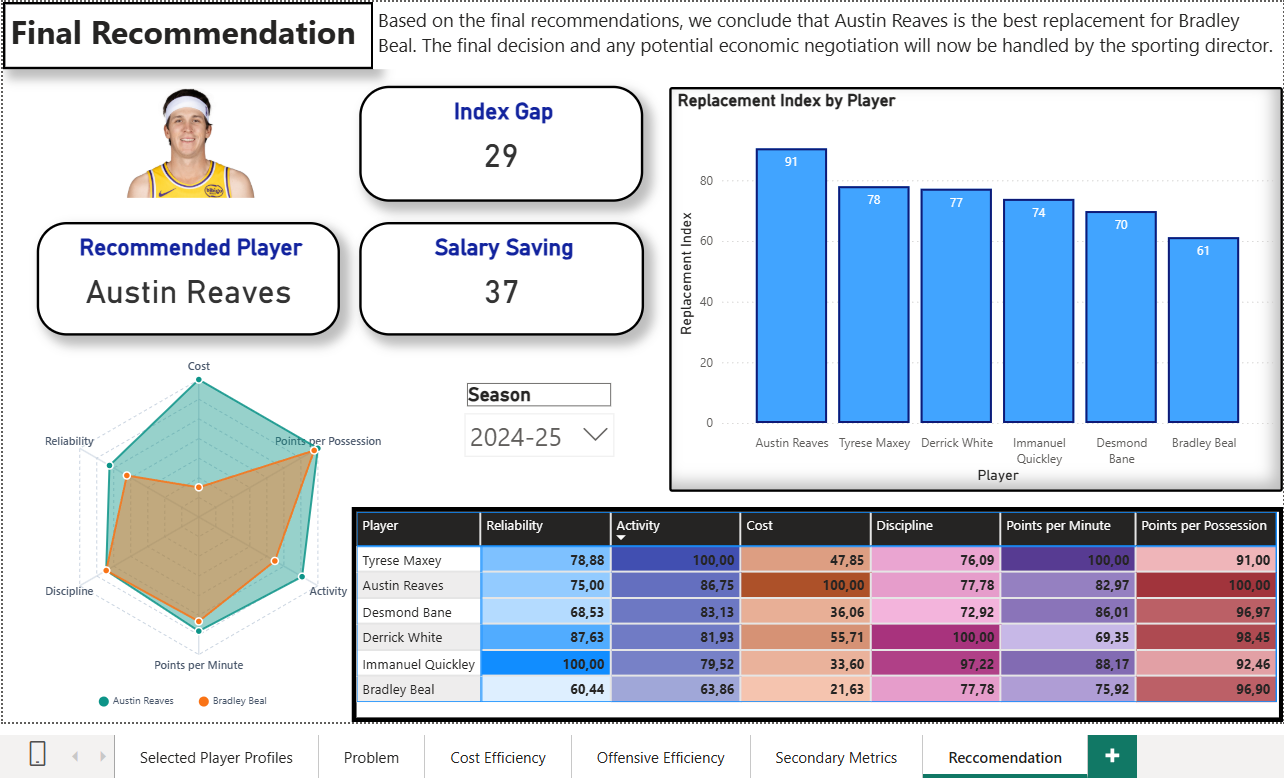

What the dashboard file says about the page in this screenshot:
{"tool":"powerbi","page":{"name":"Reccomendation","canvas":[1280,720],"ordinal":5},"visuals":[{"type":"clusteredColumnChart","title":"Replacement Index by Player","fields":{"Category":["NBA_salaries.Player"],"Y":["NBA_salaries.Indice Finale Rimpiazzo"]},"box":[666.7,85,613.3,405],"z":0},{"type":"slicer","fields":{"Values":["Seasons.Season"]},"box":[451.7,376.7,170,96.7],"z":1000},{"type":"briqlabRadarPro00AB02FA7F1A4AD68777E9B408C0B9D3","fields":{"entity":["NBA_salaries.Player"],"dimension":["Tabella.Categoria"],"value":["NBA_salaries.Valore Radar"]},"box":[0,333.3,391.7,386.7],"z":2000},{"type":"pivotTable","fields":{"Rows":["NBA_salaries.Player"],"Values":["NBA_salaries.Score Affidabilità","NBA_salaries.Score Attività","NBA_salaries.Score Costo","NBA_salaries.Score Disciplina","NBA_salaries.Score Punti per Minuto","NBA_salaries.Score Punti per Possesso"]},"box":[348.3,505,931.7,215],"z":3000},{"type":"textbox","box":[0,0,370,67.1],"z":4000},{"type":"textbox","box":[370,0,910,67.1],"z":5000},{"type":"advanceCardE03760C5AB684758B56AA29F9E6C257B","title":"Recommended Player","fields":{"mainMeasure":["Min(NBA_salaries.Player)"]},"box":[33.3,220,303.3,113.3],"z":6000},{"type":"advanceCardE03760C5AB684758B56AA29F9E6C257B","title":"Index Gap","fields":{"mainMeasure":["NBA_salaries.Index Gap"]},"box":[355.8,84.2,284.2,115.8],"z":7000},{"type":"advanceCardE03760C5AB684758B56AA29F9E6C257B","title":"Salary Saving","fields":{"mainMeasure":["NBA_salaries.Salary Saving"]},"box":[356.7,220,285,113.3],"z":8000},{"type":"image","box":[110,66.7,150,150],"z":9000}]}

Visuals, with their boxes on the page's 1280x720 design canvas (x1, y1, x2, y2). These are canvas units, not pixel positions in the 1284x778 screenshot, which may show the page scaled, cropped or inside an application window:
"Replacement Index by Player" clusteredColumnChart: region(667, 85, 1280, 490)
slicer - Seasons.Season: region(452, 377, 622, 473)
briqlabRadarPro00AB02FA7F1A4AD68777E9B408C0B9D3 - NBA_salaries.Player x Tabella.Categoria: region(0, 333, 392, 720)
pivotTable - NBA_salaries.Player x NBA_salaries.Score Affidabilità: region(348, 505, 1280, 720)
textbox: region(0, 0, 370, 67)
textbox: region(370, 0, 1280, 67)
"Recommended Player" advanceCardE03760C5AB684758B56AA29F9E6C257B: region(33, 220, 337, 333)
"Index Gap" advanceCardE03760C5AB684758B56AA29F9E6C257B: region(356, 84, 640, 200)
"Salary Saving" advanceCardE03760C5AB684758B56AA29F9E6C257B: region(357, 220, 642, 333)
image: region(110, 67, 260, 217)
